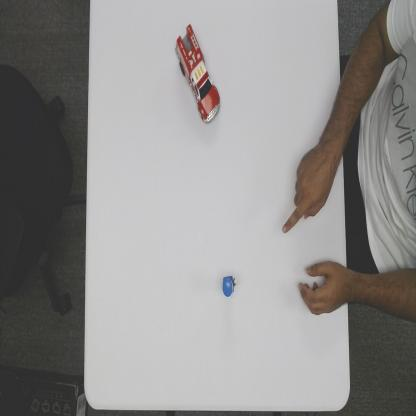Arm: (320, 17, 383, 141)
Firetruck: (174, 22, 222, 126)
Hand: (282, 145, 342, 238), (297, 260, 344, 317)
